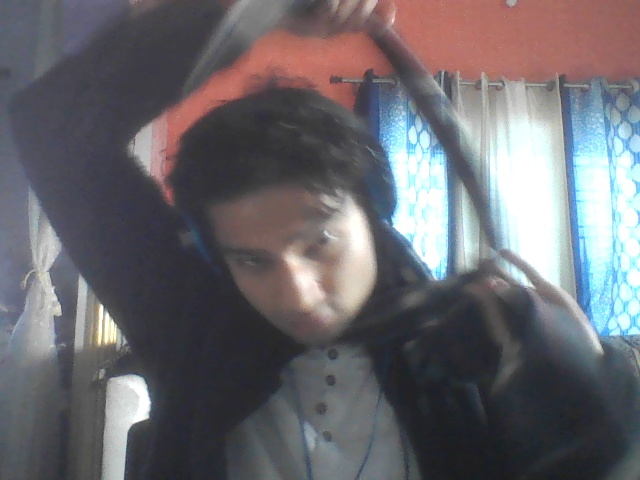real: (205, 95, 394, 363)
